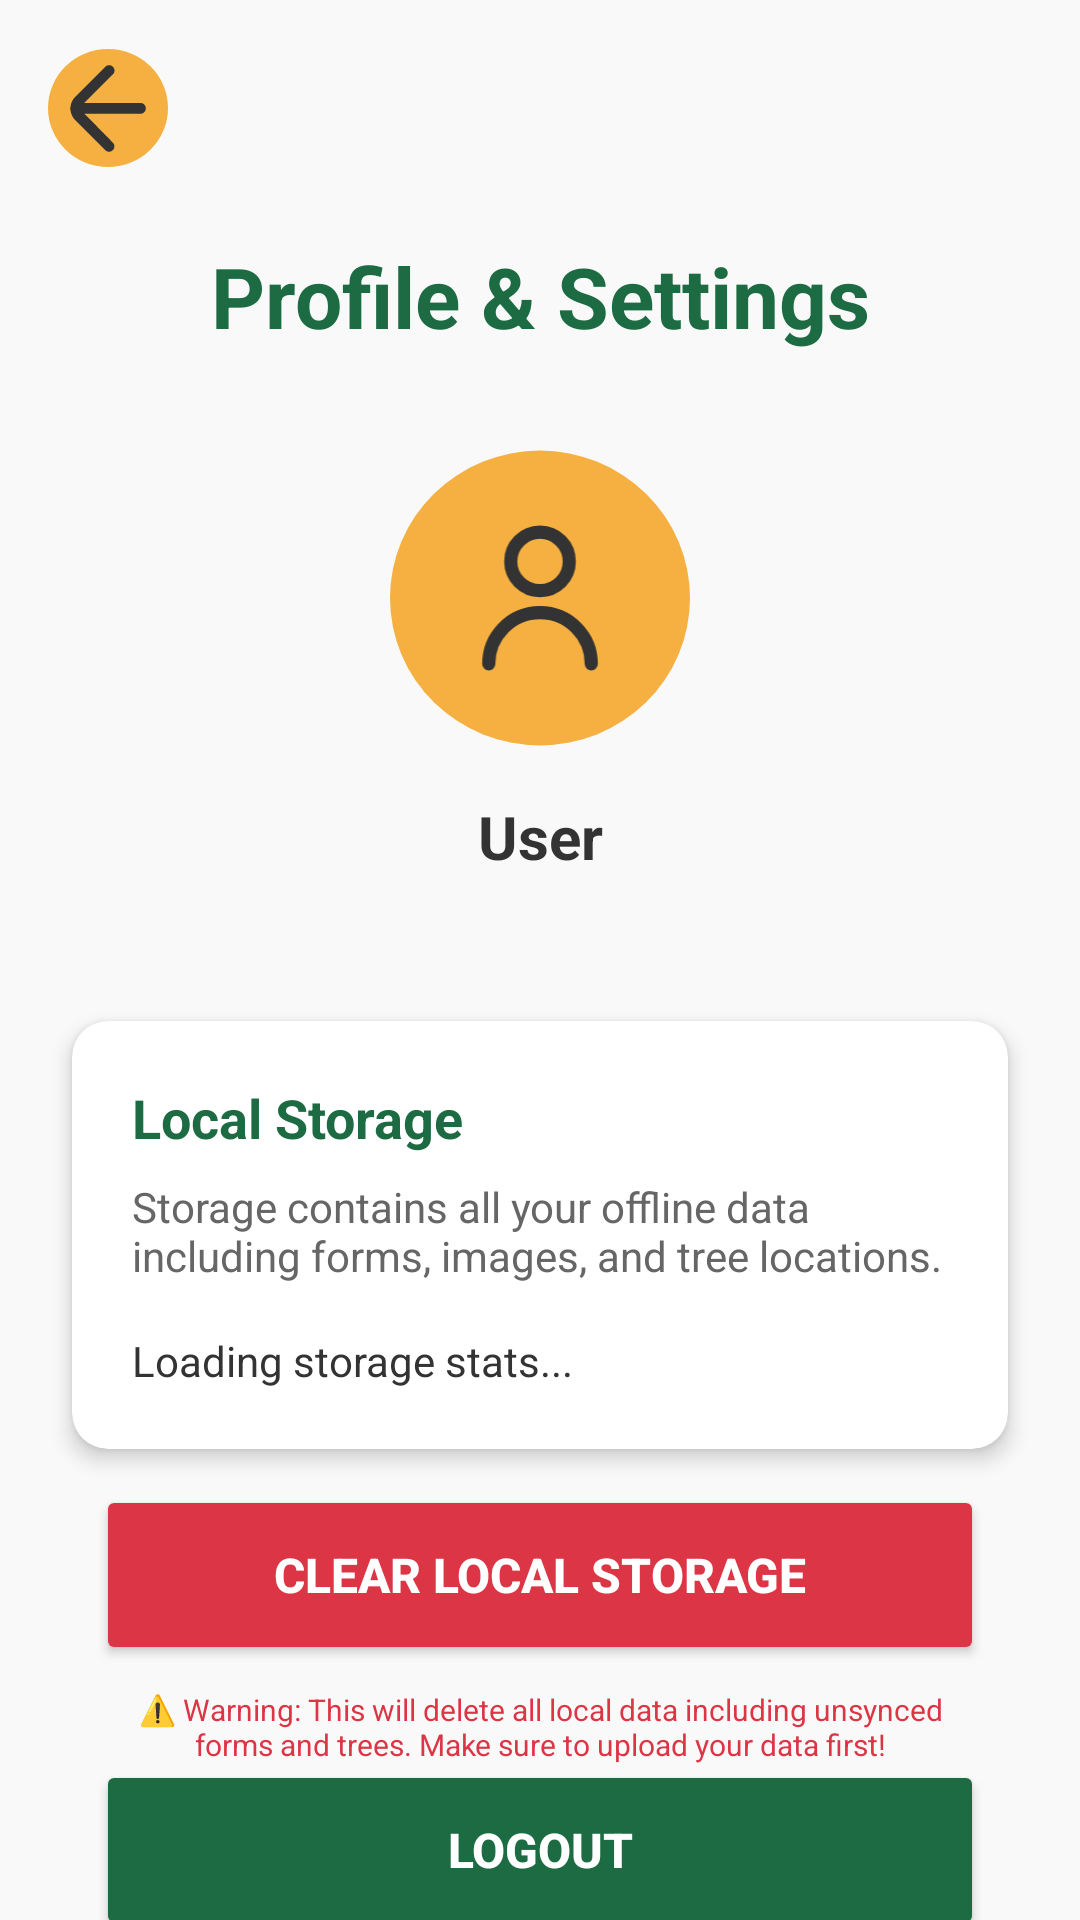

Icon click points for this 1080x1920 phone screenshot, format point (x, y):
back arrow: point (108, 108)
